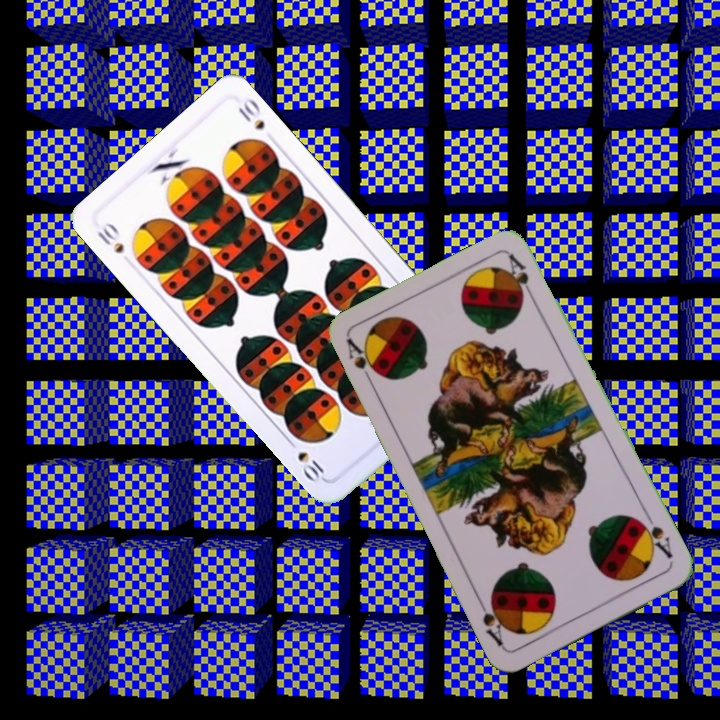S10: (93, 218, 127, 257)
SA: (342, 335, 379, 391), (633, 514, 675, 561)
